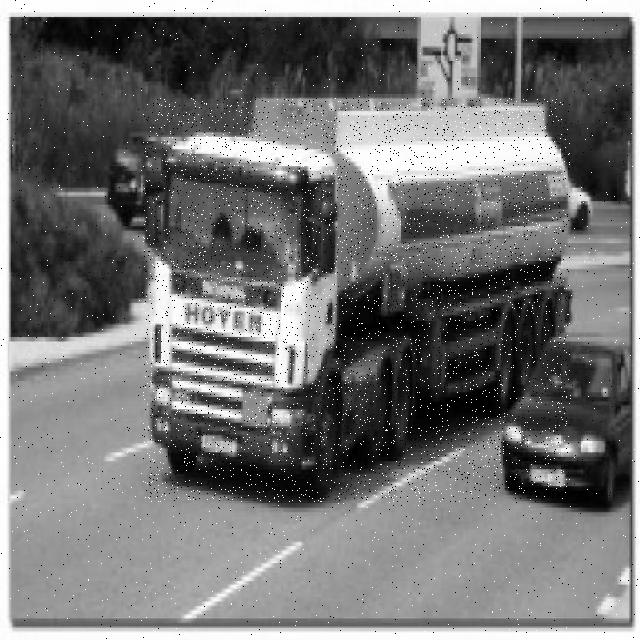Box Truck: (143, 98, 570, 502)
